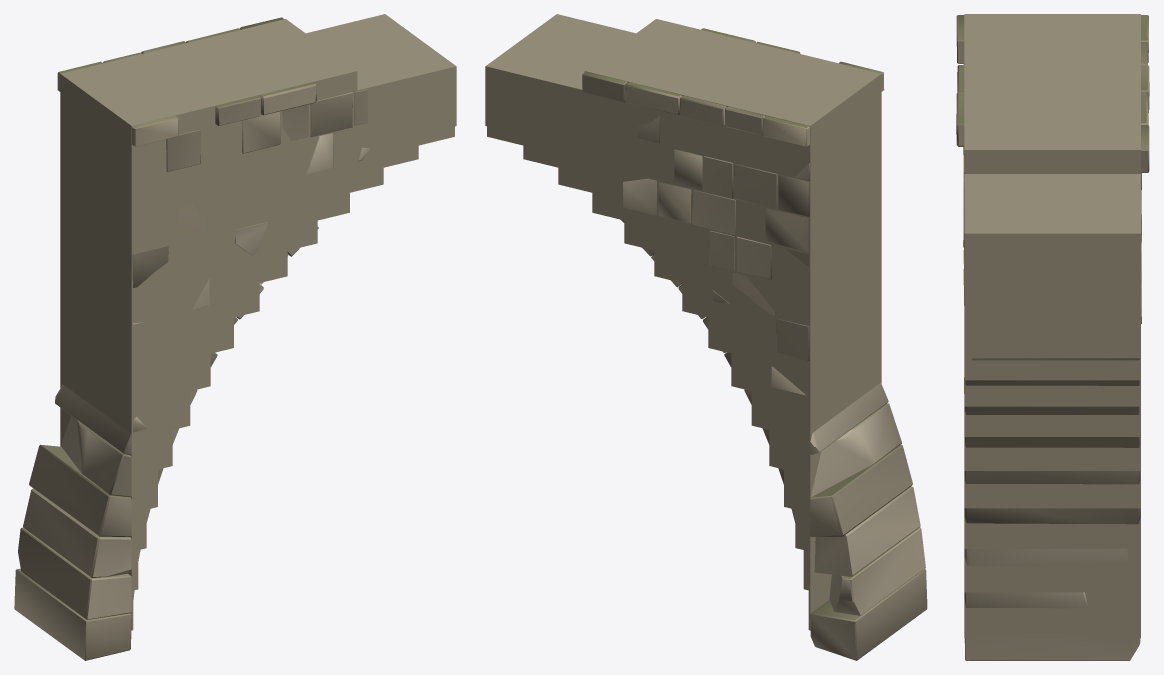
File: viaduct_arch_broken.glb
The picture shows the model from 3 angles, left to right: view 1: azimuth 30°, elevation 25°; view 2: azimuth 150°, elevation 25°; view 3: azimuth 270°, elevation 25°; orthographic projection. The views are drawn at different scales.
Parts seen in each view (by area): view 1: viaduct_arch_broken_far, viaduct_arch_broken; view 2: viaduct_arch_broken_far, viaduct_arch_broken; view 3: viaduct_arch_broken_far, viaduct_arch_broken.
Boxes of the visible parts, x1=… form: viaduct_arch_broken_far: x1=60, y1=14, x2=456, y2=630; viaduct_arch_broken: x1=14, y1=17, x2=369, y2=660; viaduct_arch_broken_far: x1=485, y1=14, x2=881, y2=630; viaduct_arch_broken: x1=582, y1=28, x2=927, y2=660; viaduct_arch_broken_far: x1=964, y1=14, x2=1140, y2=638; viaduct_arch_broken: x1=956, y1=15, x2=1149, y2=660.
Bounding box in the file's own units: 24.02 × 32.4 × 8.76.
